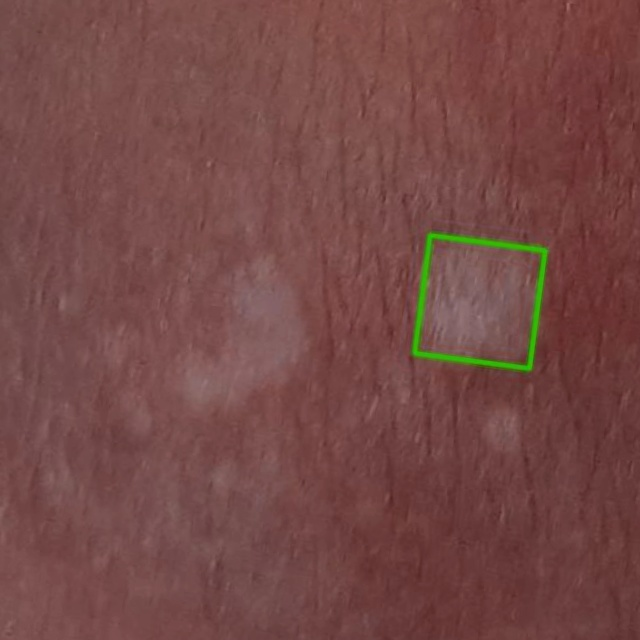Eczema: (414, 235, 545, 368)
